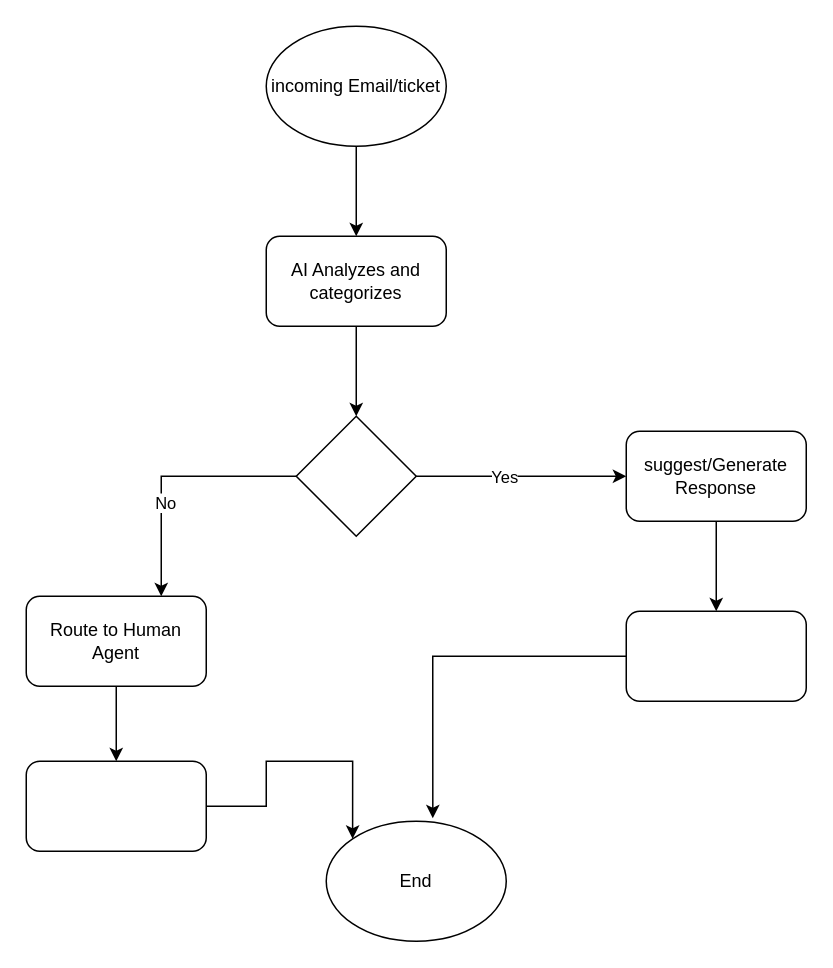
Some shapes in this 833 by 968 pixel diagram are drawn without their labels. Here are the shapes that lost their labels. From the top down, the centre of each, then its label:
At point 355,475: "common Query?".
At point 715,655: "Send Response".
At point 115,805: "Human Handles issue".
